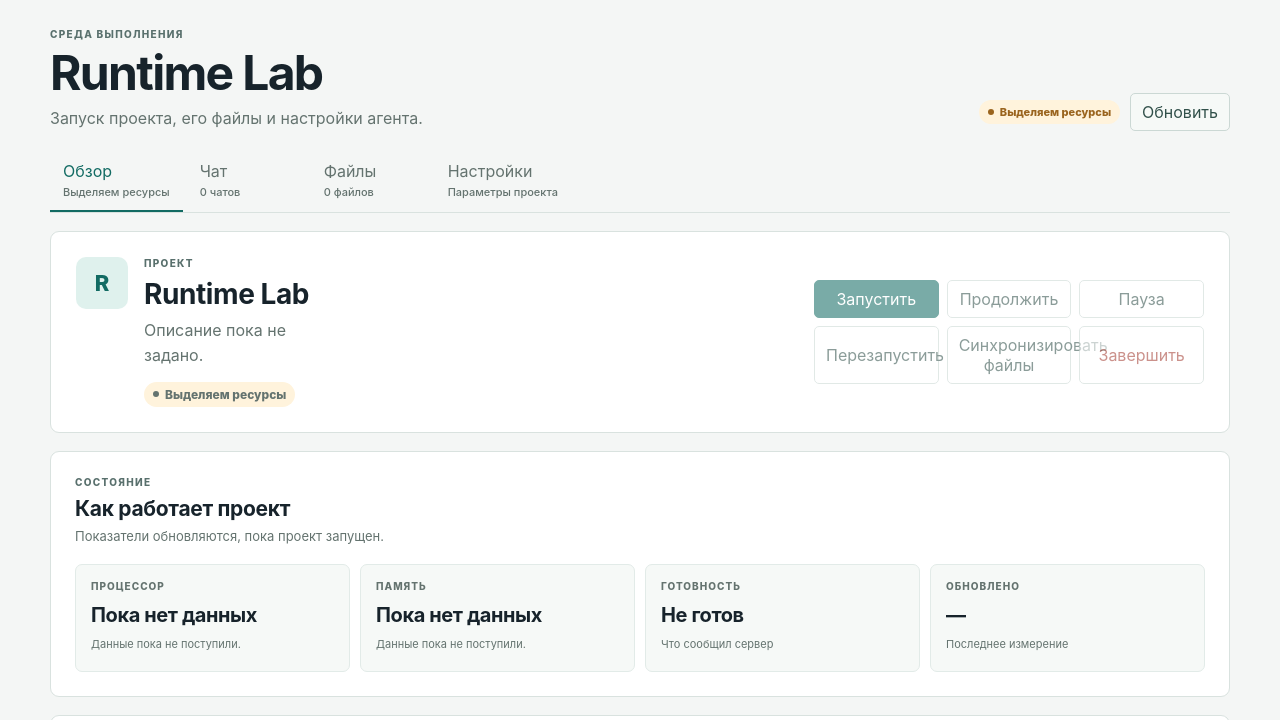
ProjectRuntime component workflow › shows the backend Pod observation after refreshing a provisioning project
Click the button "Обновить" at {"x": 1180, "y": 112}, box [1130,93,1230,131]
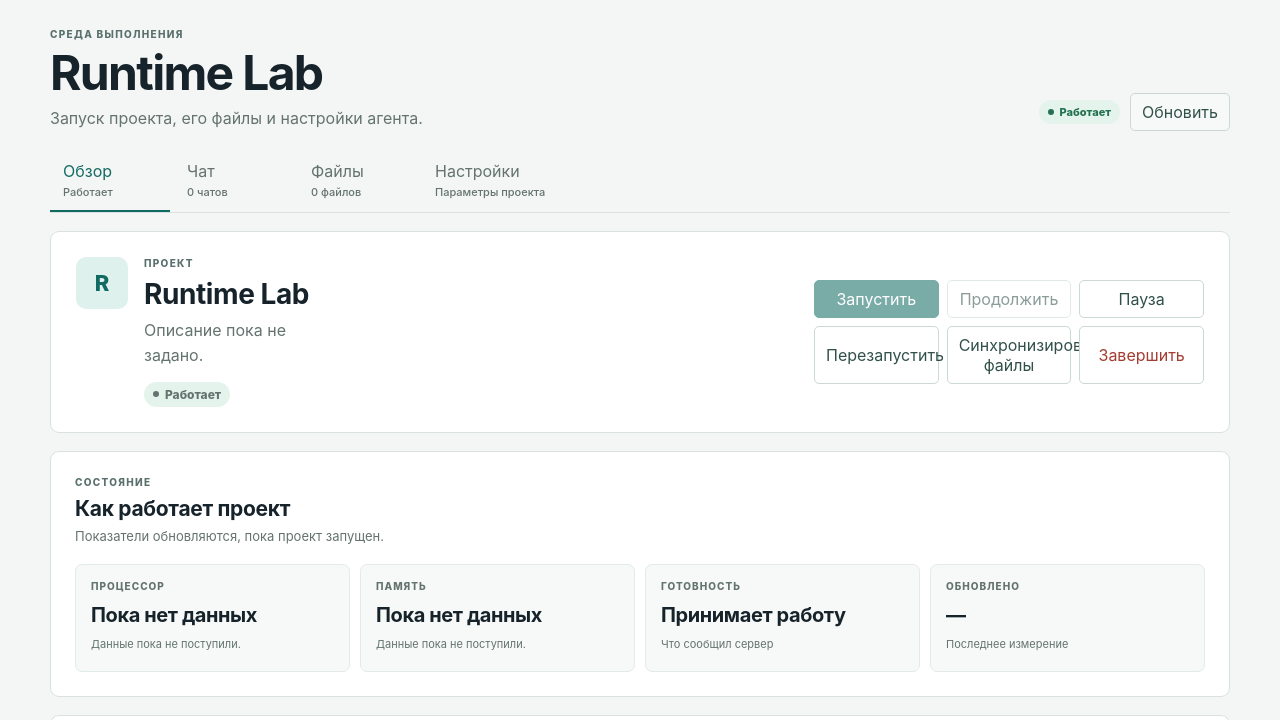
Expected: the text "Работает" is shown, [1039,100,1120,124]
Expected: the text "Принимает работу" is shown, [661,603,846,627]
